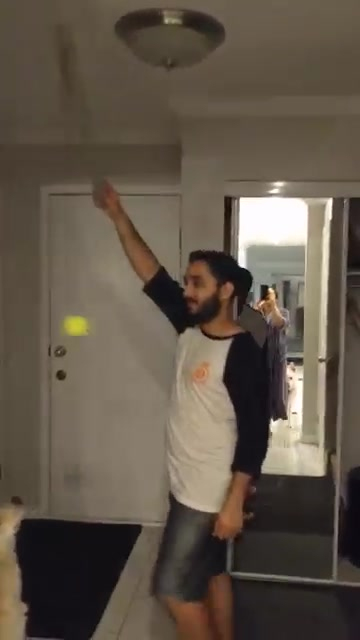tennis_ball: (63, 313, 89, 338)
